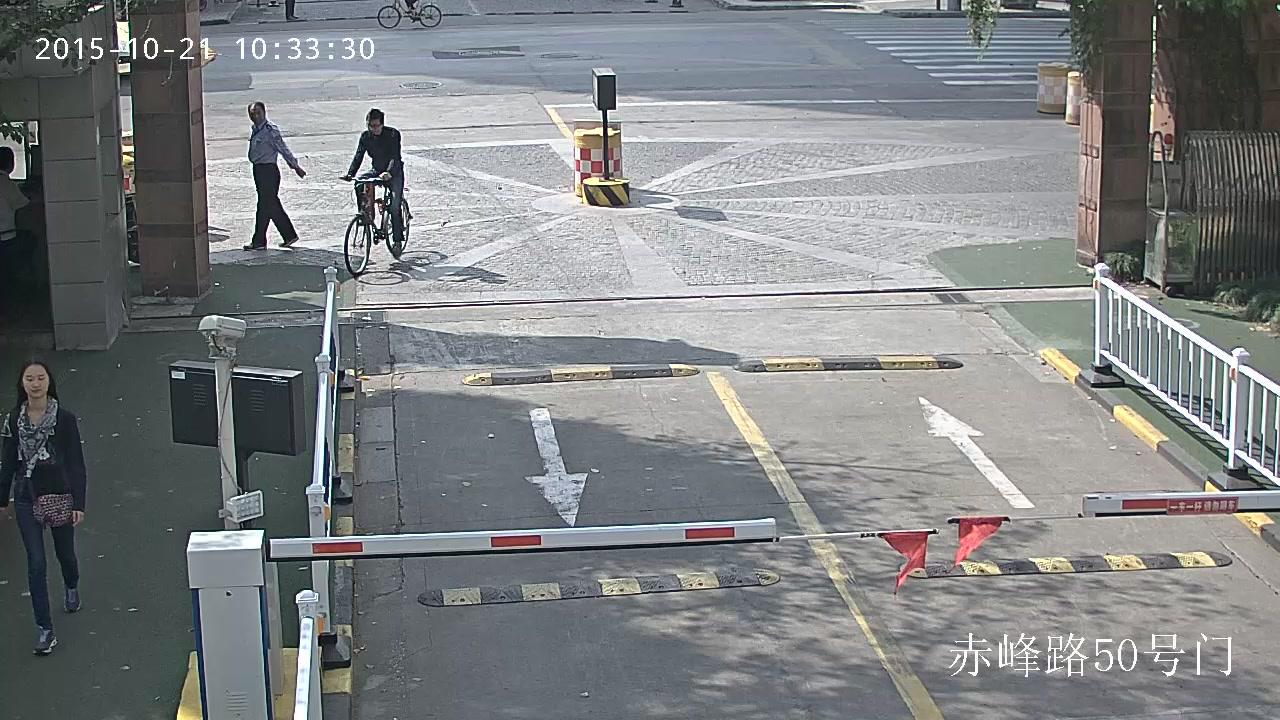person: (0, 360, 86, 655), (339, 108, 413, 276), (243, 102, 305, 252), (343, 107, 403, 257), (0, 146, 31, 319), (377, 0, 440, 28), (403, 0, 418, 23)
